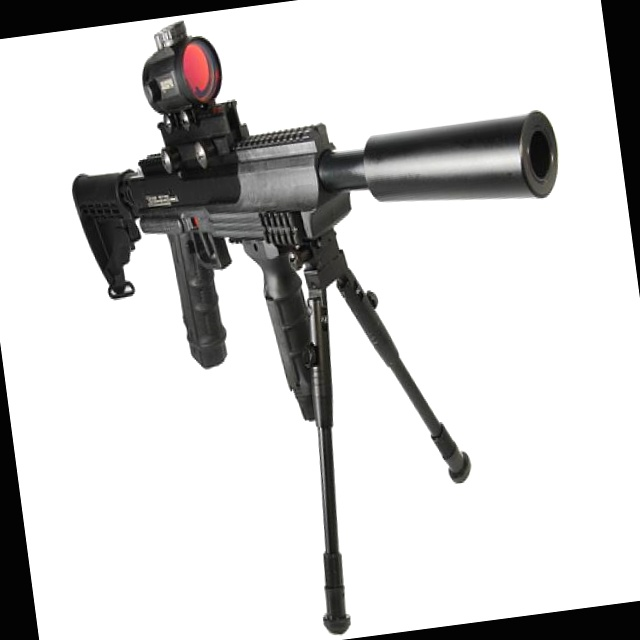gun: (39, 0, 618, 633)
